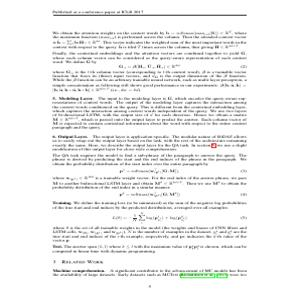text: (46, 28, 252, 282)
